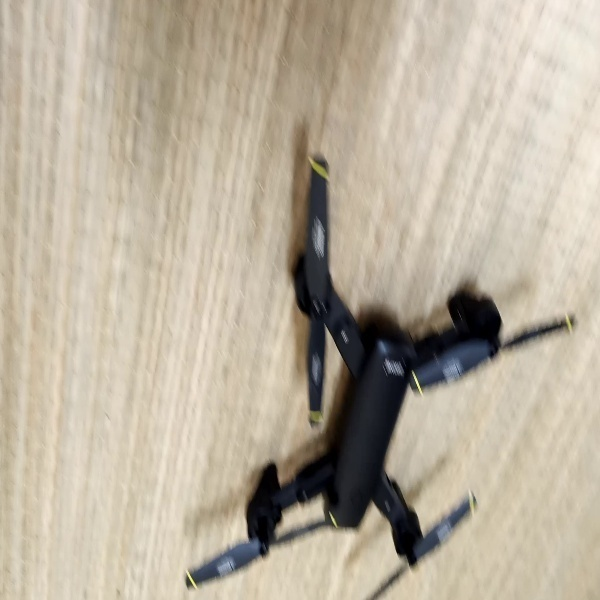drone: (176, 148, 574, 600)
